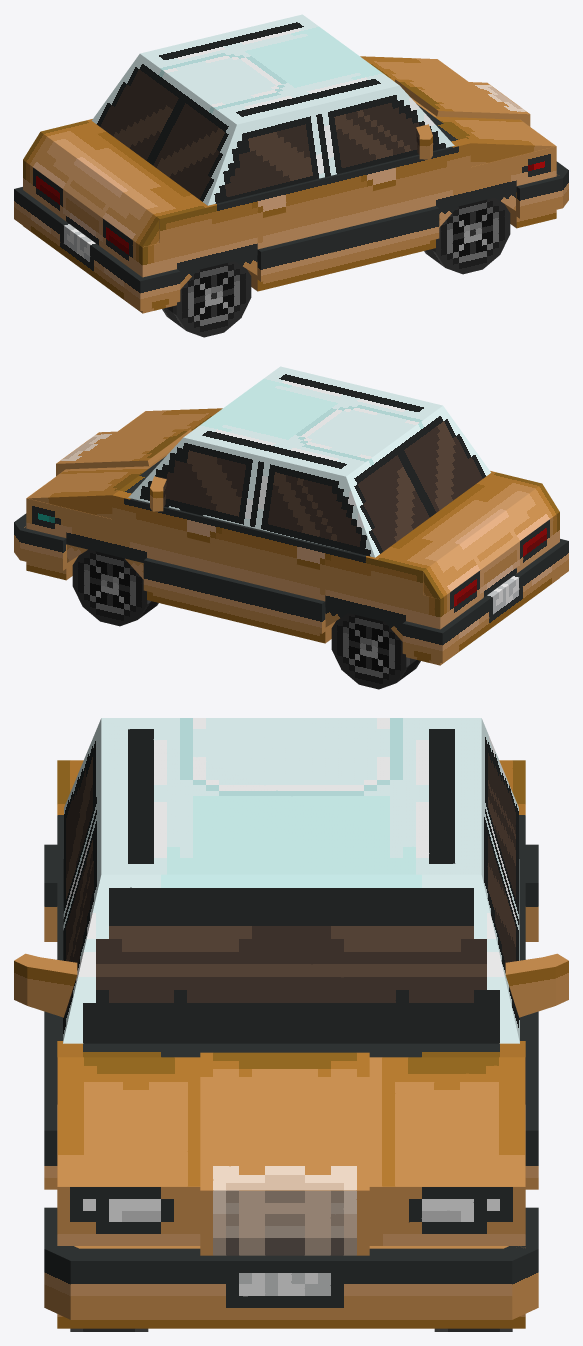
Rendered from car2_1.gltf.
3 renders of one model, top to bottom at view 1: azimuth 30°, elevation 25°; view 2: azimuth 150°, elevation 25°; view 3: azimuth 270°, elevation 25°, orthographic. The views are drawn at different scales.
Visible parts, largest first — view 1: cube (×12), cuboid (×2), cylinder (×2); view 2: cube (×12), cuboid (×2), cylinder (×2); view 3: cube (×11), cuboid (×3).
Boxes of the visible parts, x1=… form: cube (×12): x1=14, y1=56, x2=562, y2=313; cuboid (×2): x1=92, y1=14, x2=454, y2=205; cylinder (×2): x1=162, y1=197, x2=510, y2=337; cube (×12): x1=20, y1=408, x2=568, y2=665; cuboid (×2): x1=128, y1=366, x2=490, y2=557; cylinder (×2): x1=72, y1=549, x2=420, y2=689; cube (×11): x1=44, y1=760, x2=538, y2=1328; cuboid (×3): x1=14, y1=718, x2=568, y2=1043.
Bounding box in the file's own units: 6.06 × 2.62 × 3.41.
1 material, 1 textured.
